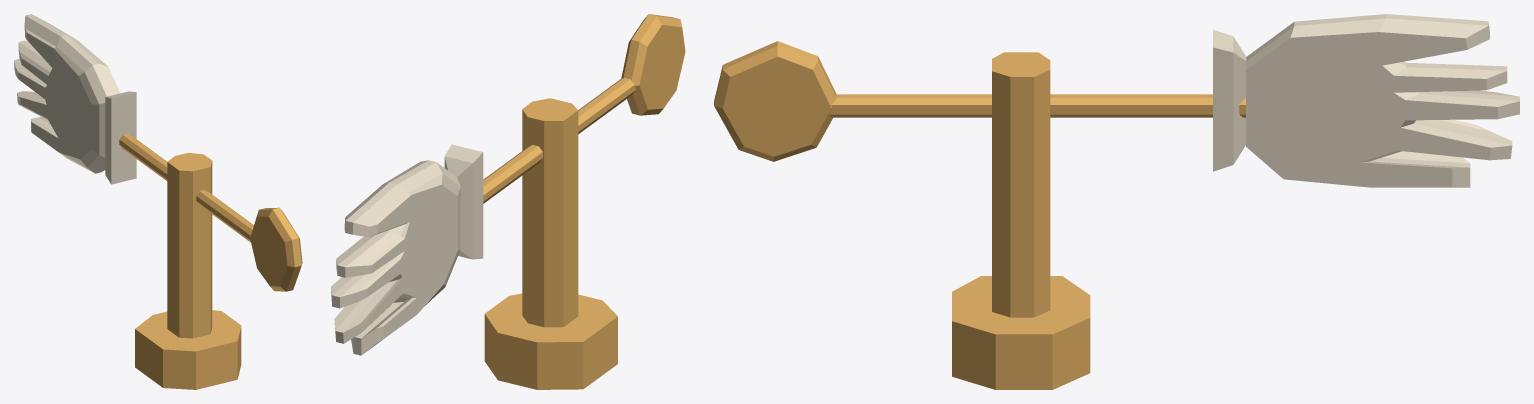
The model's file is hand.fbx.
3 renders of one model, left to right at view 1: azimuth 30°, elevation 25°; view 2: azimuth 150°, elevation 25°; view 3: azimuth 270°, elevation 25°, orthographic. The views are drawn at different scales.
Visible parts, largest first — view 1: pPlane7, pPlane6; view 2: pPlane7, pPlane6; view 3: pPlane7, pPlane6.
Part boxes in pixels (x1,y1,x2,y2): pPlane7: (14, 14, 302, 338); pPlane6: (135, 310, 241, 389); pPlane7: (331, 14, 685, 355); pPlane6: (484, 293, 617, 389); pPlane7: (714, 14, 1519, 317); pPlane6: (952, 276, 1090, 389).
Bounding box in the file's own units: 1.9 × 5.22 × 11.07.
